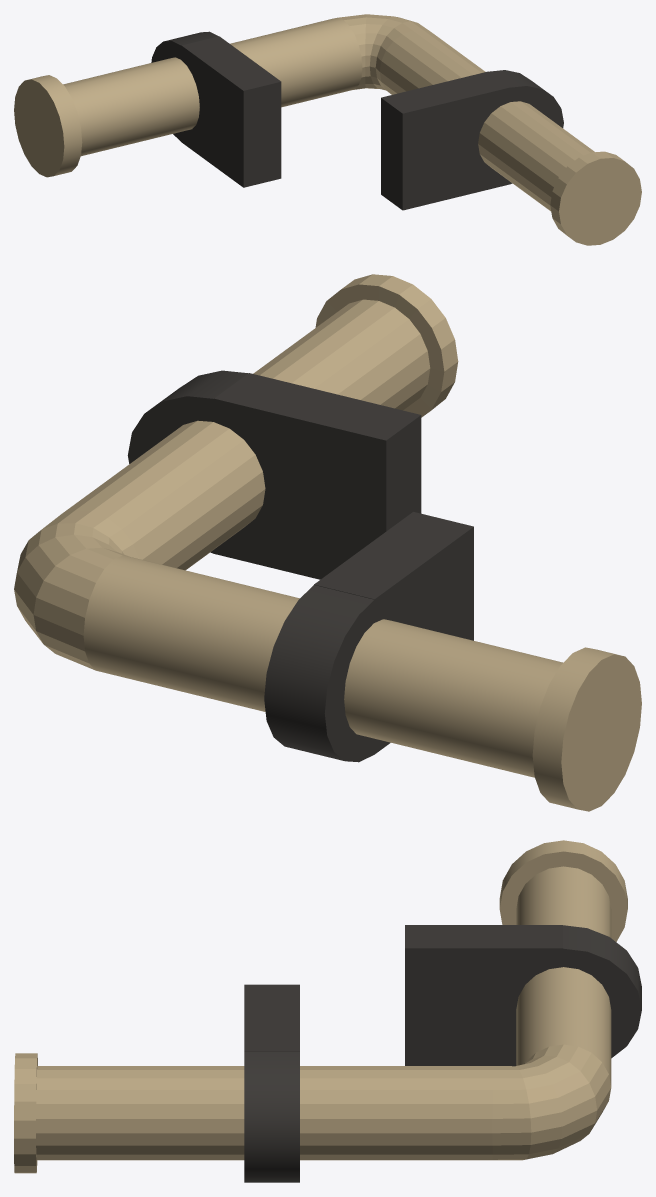
File: pipe_shape_2.fbx
3 views of the same model, one above another, from view 1: azimuth 30°, elevation 25°; view 2: azimuth 150°, elevation 25°; view 3: azimuth 270°, elevation 25° (orthographic). The views are drawn at different scales.
Parts seen in each view (by area): view 1: pCylinder65, pCylinder69, pCylinder70; view 2: pCylinder65, pCylinder69, pCylinder70; view 3: pCylinder65, pCylinder70, pCylinder69.
Boxes of the visible parts, left/top/right/bottom form: pCylinder65: left=14, top=14, right=641, bottom=245; pCylinder69: left=381, top=70, right=563, bottom=210; pCylinder70: left=151, top=31, right=281, bottom=187; pCylinder65: left=14, top=274, right=641, bottom=811; pCylinder69: left=127, top=370, right=421, bottom=579; pCylinder70: left=264, top=512, right=473, bottom=762; pCylinder65: left=14, top=840, right=627, bottom=1173; pCylinder70: left=405, top=925, right=641, bottom=1066; pCylinder69: left=244, top=984, right=299, bottom=1182.
Size of the model in its own units: 1.38 by 0.3208 by 1.48.
